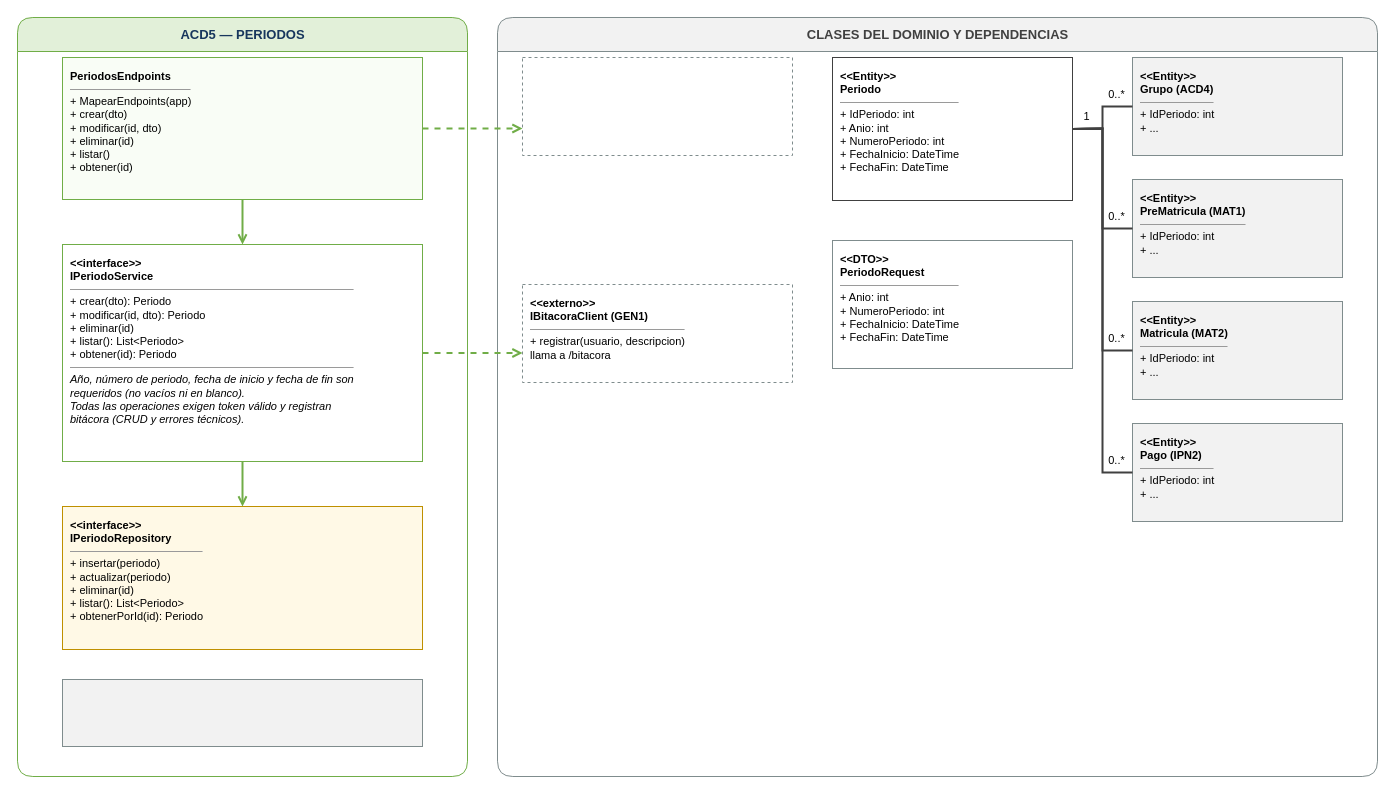
This 1395x794 diagram has some shape labels left out. The box of each missing label's shape, as (x1, y1, x2, y2) in pixels:
<<externo>> ITokenValidator (USR5) + validar(token): bool llama a /validate: (522, 56, 792, 156)
Entidad: Periodo IdPeriodo · Anio · NumeroPeriodo · FechaInicio · FechaFin: (62, 678, 422, 746)
